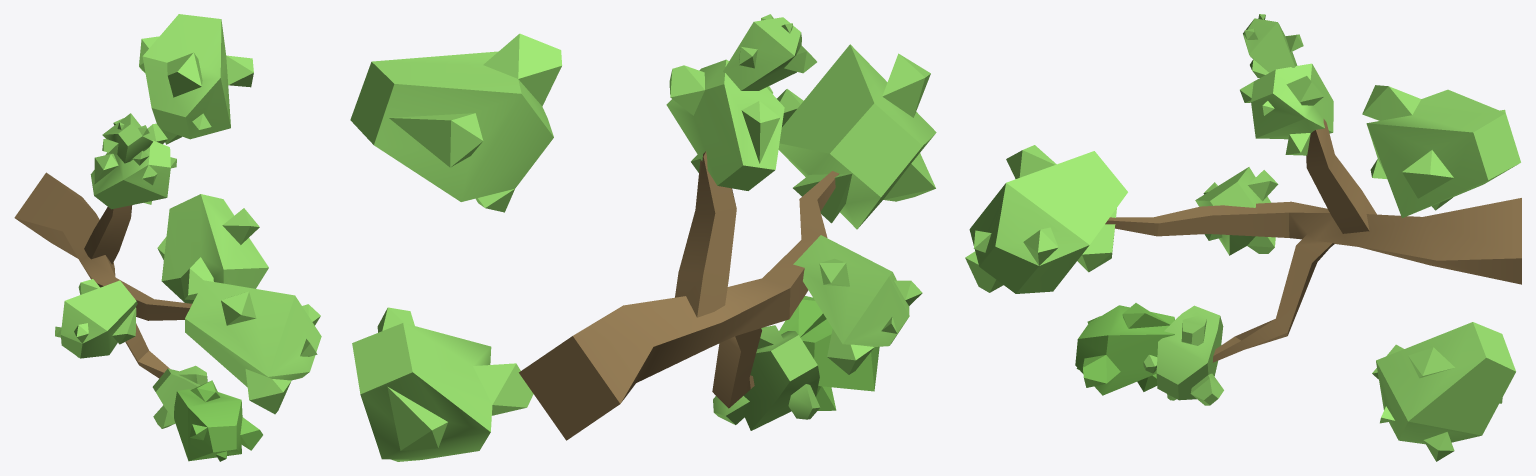
Rendered from trees2.glb.
The picture shows the model from 3 angles, left to right: view 1: azimuth 30°, elevation 25°; view 2: azimuth 150°, elevation 25°; view 3: azimuth 270°, elevation 25°; orthographic projection. The views are drawn at different scales.
Parts seen in each view (by area): view 1: BranchesCBranchesuBranchesbBrancheseBranches.Branches0Branc. (×7), Trunk.001, BranchesCBranchesuBranchesbBrancheseBranchesBranch.001; view 2: BranchesCBranchesuBranchesbBrancheseBranches.Branches0Branc. (×7), Trunk.001, BranchesCBranchesuBranchesbBrancheseBranchesBranch.001; view 3: BranchesCBranchesuBranchesbBrancheseBranches.Branches0Branc. (×7), Trunk.001, BranchesCBranchesuBranchesbBrancheseBranchesBranch.001.
Boxes of the visible parts, bbox=[...] form: BranchesCBranchesuBranchesbBrancheseBranches.Branches0Branc. (×7): bbox=[55, 14, 321, 461]; Trunk.001: bbox=[14, 172, 191, 378]; BranchesCBranchesuBranchesbBrancheseBranchesBranch.001: bbox=[152, 365, 207, 428]; BranchesCBranchesuBranchesbBrancheseBranches.Branches0Branc. (×7): bbox=[350, 14, 936, 461]; Trunk.001: bbox=[519, 151, 838, 440]; BranchesCBranchesuBranchesbBrancheseBranchesBranch.001: bbox=[713, 325, 820, 430]; BranchesCBranchesuBranchesbBrancheseBranches.Branches0Branc. (×7): bbox=[965, 14, 1520, 461]; Trunk.001: bbox=[1105, 119, 1521, 362]; BranchesCBranchesuBranchesbBrancheseBranchesBranch.001: bbox=[1143, 305, 1223, 405].
Size of what is drawn, in the model's own units: 0.956 by 0.9922 by 1.39.
